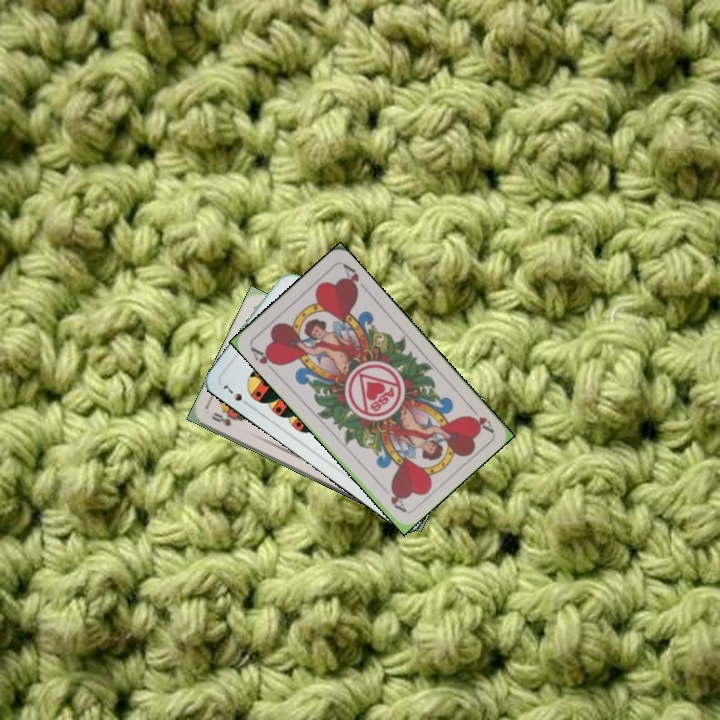HA: (246, 343, 282, 375), (464, 401, 496, 434)
S7: (218, 378, 253, 409)
SO: (207, 408, 239, 429)
